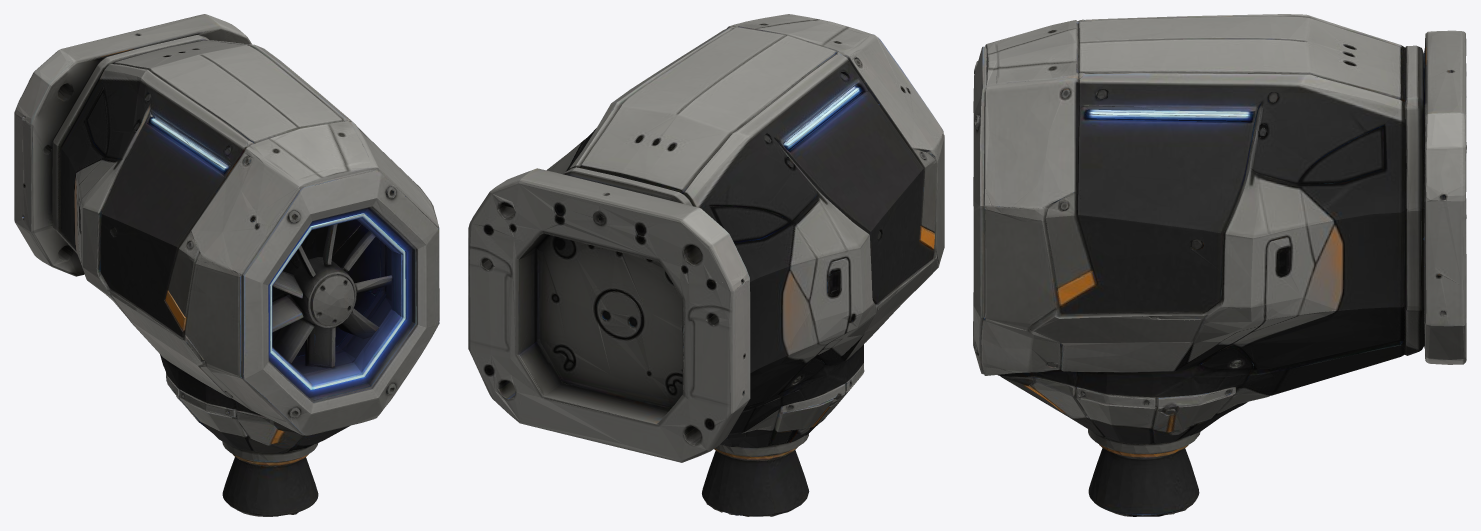
Rendered from thruster.glb.
3 views of the same model, side by side, from view 1: azimuth 30°, elevation 25°; view 2: azimuth 150°, elevation 25°; view 3: azimuth 270°, elevation 25° (orthographic). The views are drawn at different scales.
Size of the model in its own units: 0.7506 by 0.9996 by 0.9777.
Materials: 1 (1 with a texture image).
